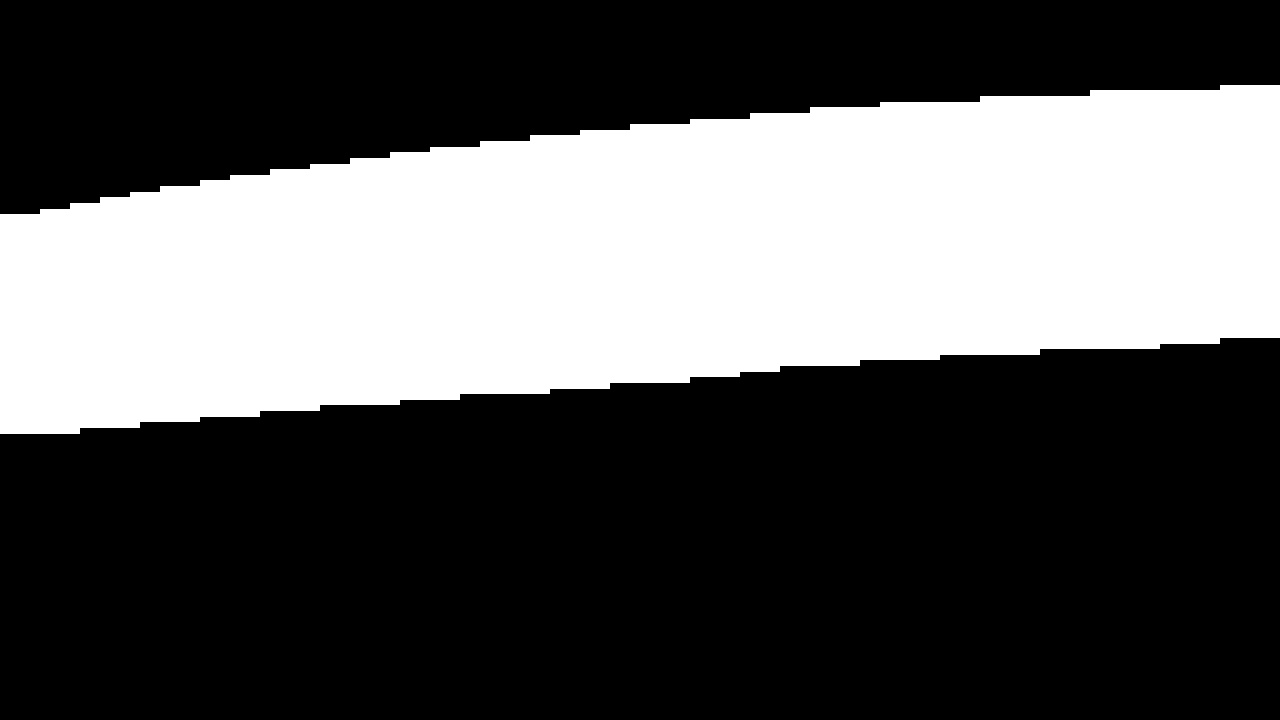Turbine: (9, 71, 1275, 466)
